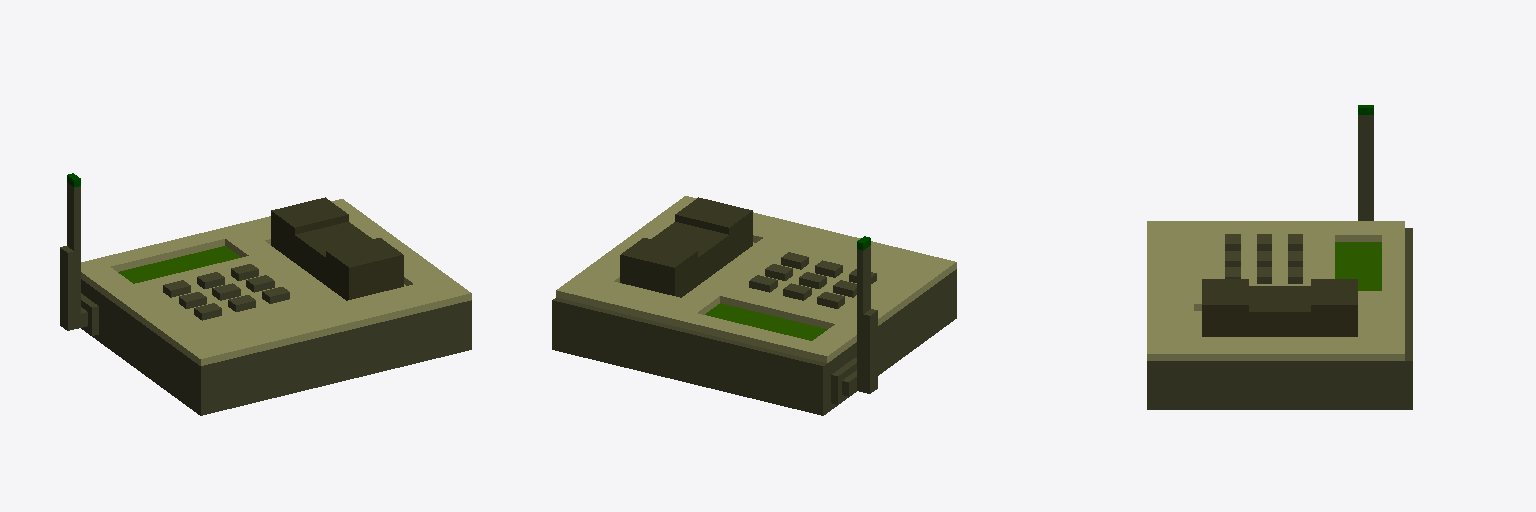
3 views of the same model, side by side, from view 1: azimuth 30°, elevation 25°; view 2: azimuth 150°, elevation 25°; view 3: azimuth 270°, elevation 25° (orthographic).
Visible parts, largest first — view 1: Office_Misc_Phone; view 2: Office_Misc_Phone; view 3: Office_Misc_Phone.
Part boxes in pixels (bbox=[...]): Office_Misc_Phone: bbox=[60, 173, 471, 415]; Office_Misc_Phone: bbox=[552, 196, 956, 415]; Office_Misc_Phone: bbox=[1147, 105, 1412, 409].
Bounding box in the file's own units: 4.4 × 2.3 × 3.4.
1 materials, 1 textured.